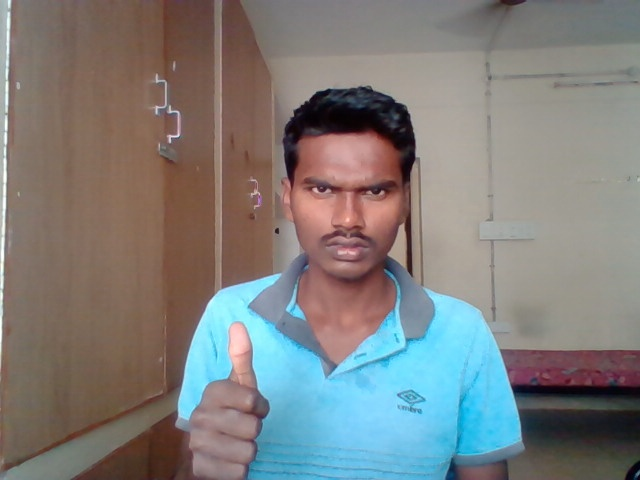Yes: (187, 323, 273, 479)
